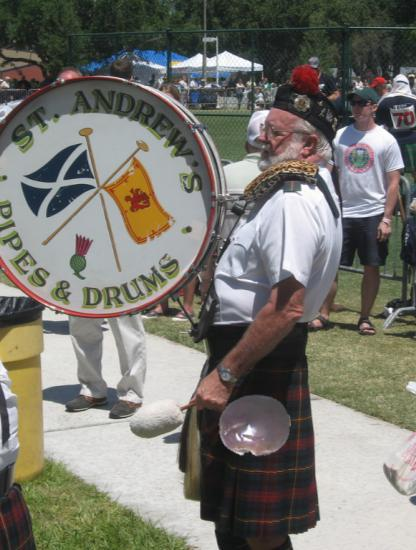Passion: (217, 389, 291, 463)
